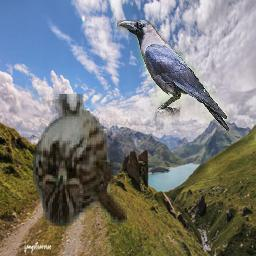Crow: (117, 21, 229, 132)
Sparrow: (33, 94, 127, 226)
